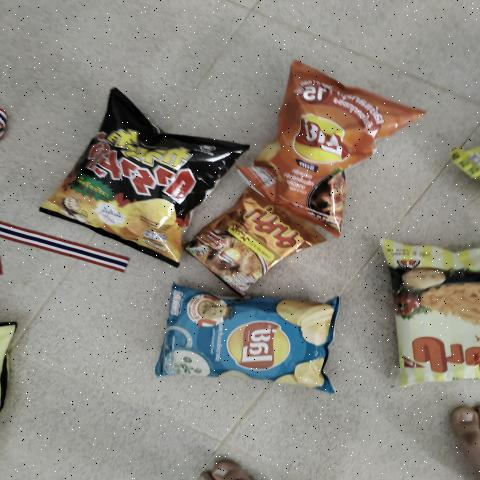karamujo: (42, 113, 232, 234)
lay_blue: (168, 300, 332, 376)
mama: (193, 193, 308, 281)
paprika: (399, 246, 480, 379)
